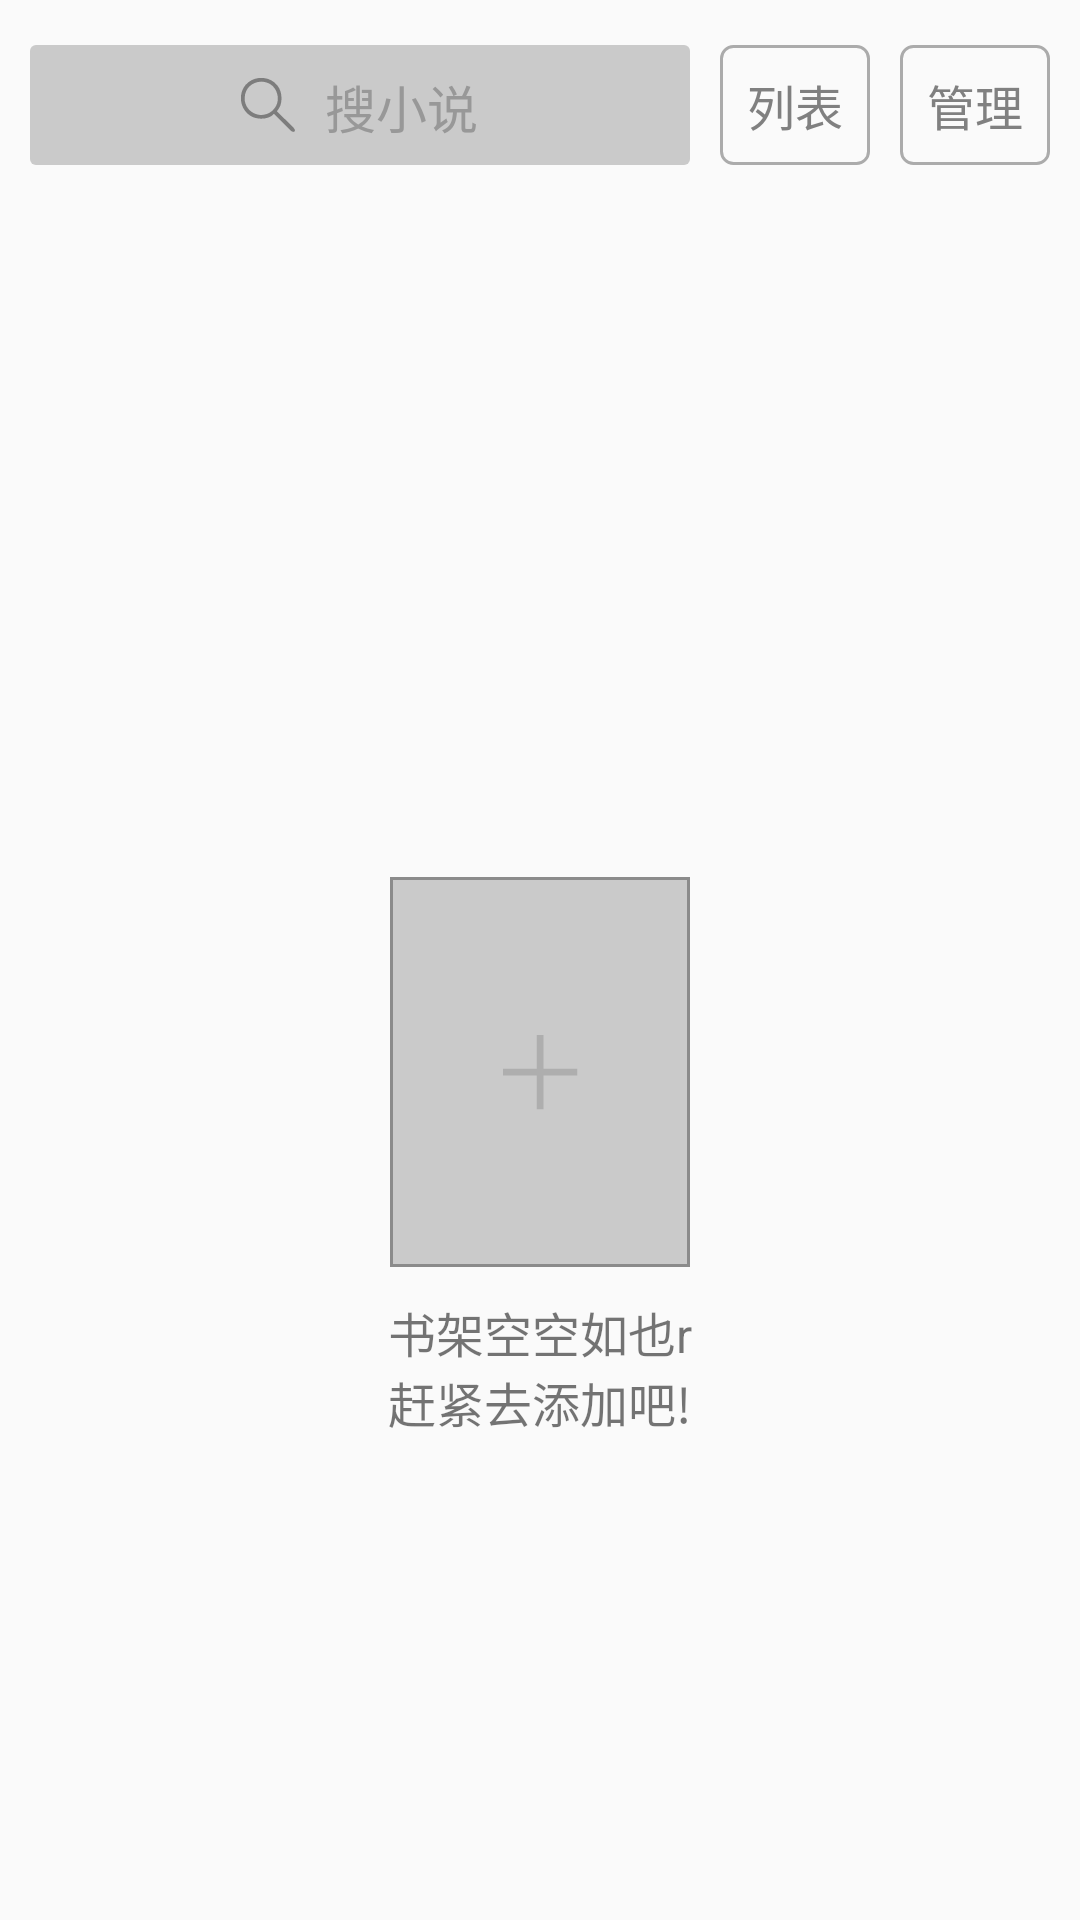

Locate icon controls on the screen. Image size 1080 x 1920, boxes as (x1, y1, x2, y2).
search: (241, 78, 295, 132)
